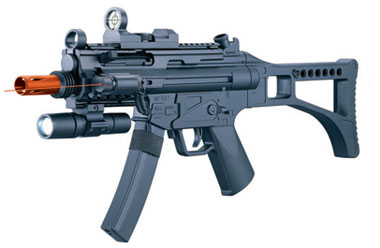rifle: (13, 5, 364, 235)
